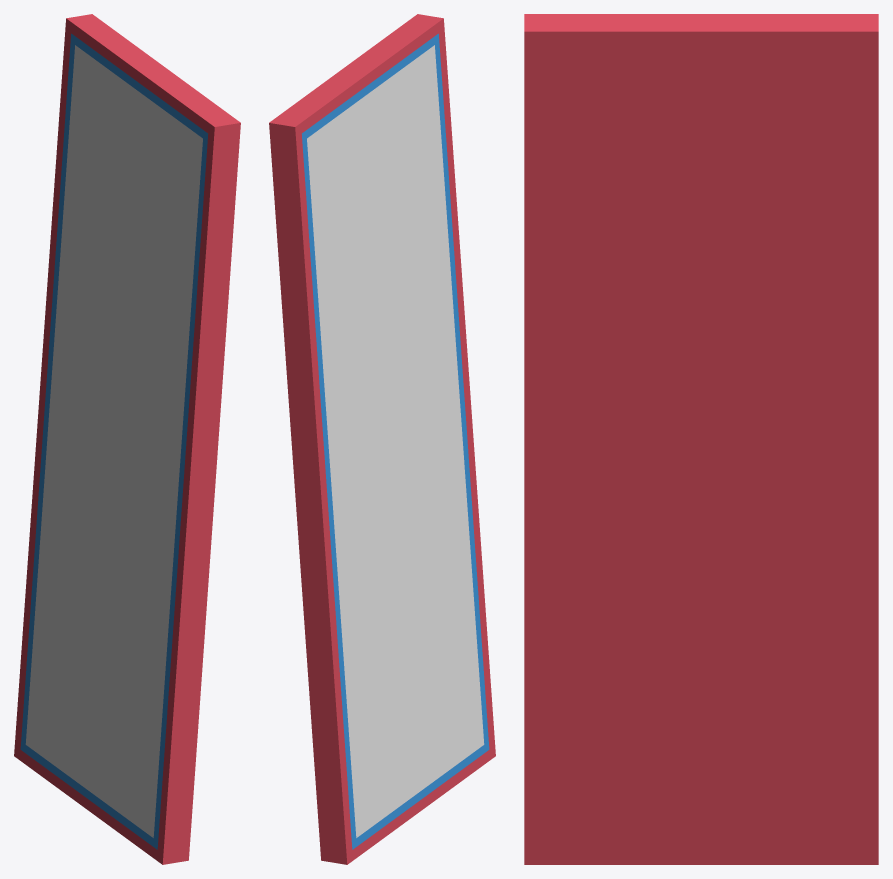
Rendered from Building_CottonCandySign.fbx.
3 views of the same model, side by side, from view 1: azimuth 30°, elevation 25°; view 2: azimuth 150°, elevation 25°; view 3: azimuth 270°, elevation 25° (orthographic). The views are drawn at different scales.
Parts seen in each view (by area): view 1: Cube.017; view 2: Cube.017; view 3: Cube.017.
Boxes of the visible parts, x1,y1,x2,y2 form: Cube.017: (14,14,240,864); Cube.017: (269,14,495,864); Cube.017: (524,14,878,864).
Bounding box in the file's own units: 25.21 × 224 × 82.9.
